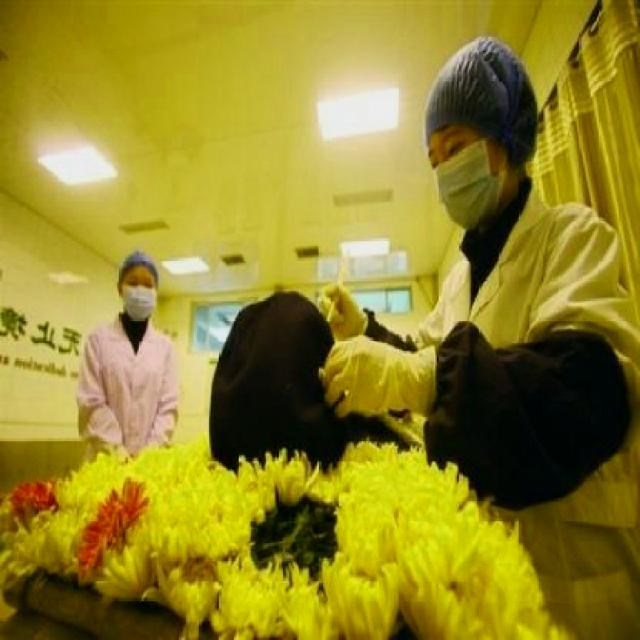face_mask: (429, 128, 508, 232), (118, 271, 156, 320)
hand_glove: (320, 334, 402, 417), (319, 278, 366, 334)
head_nohelmet: (425, 39, 544, 144), (120, 247, 162, 276)
person: (310, 44, 622, 640), (60, 251, 198, 498)
